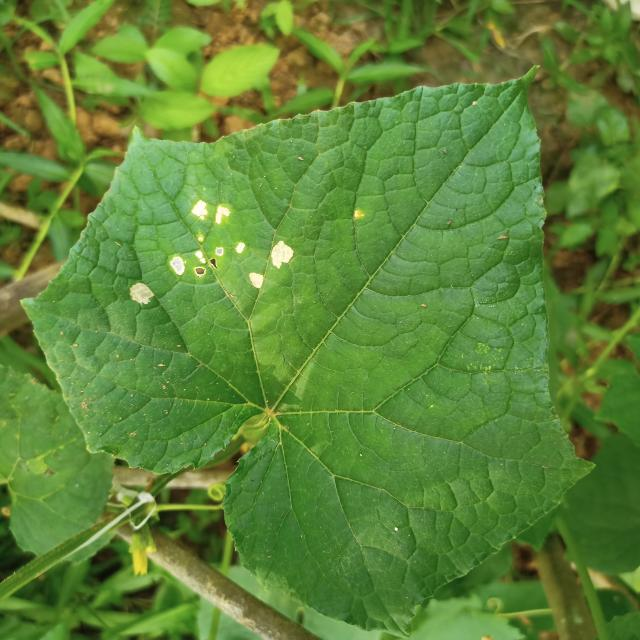disease_cucumber: (130, 201, 295, 306)
